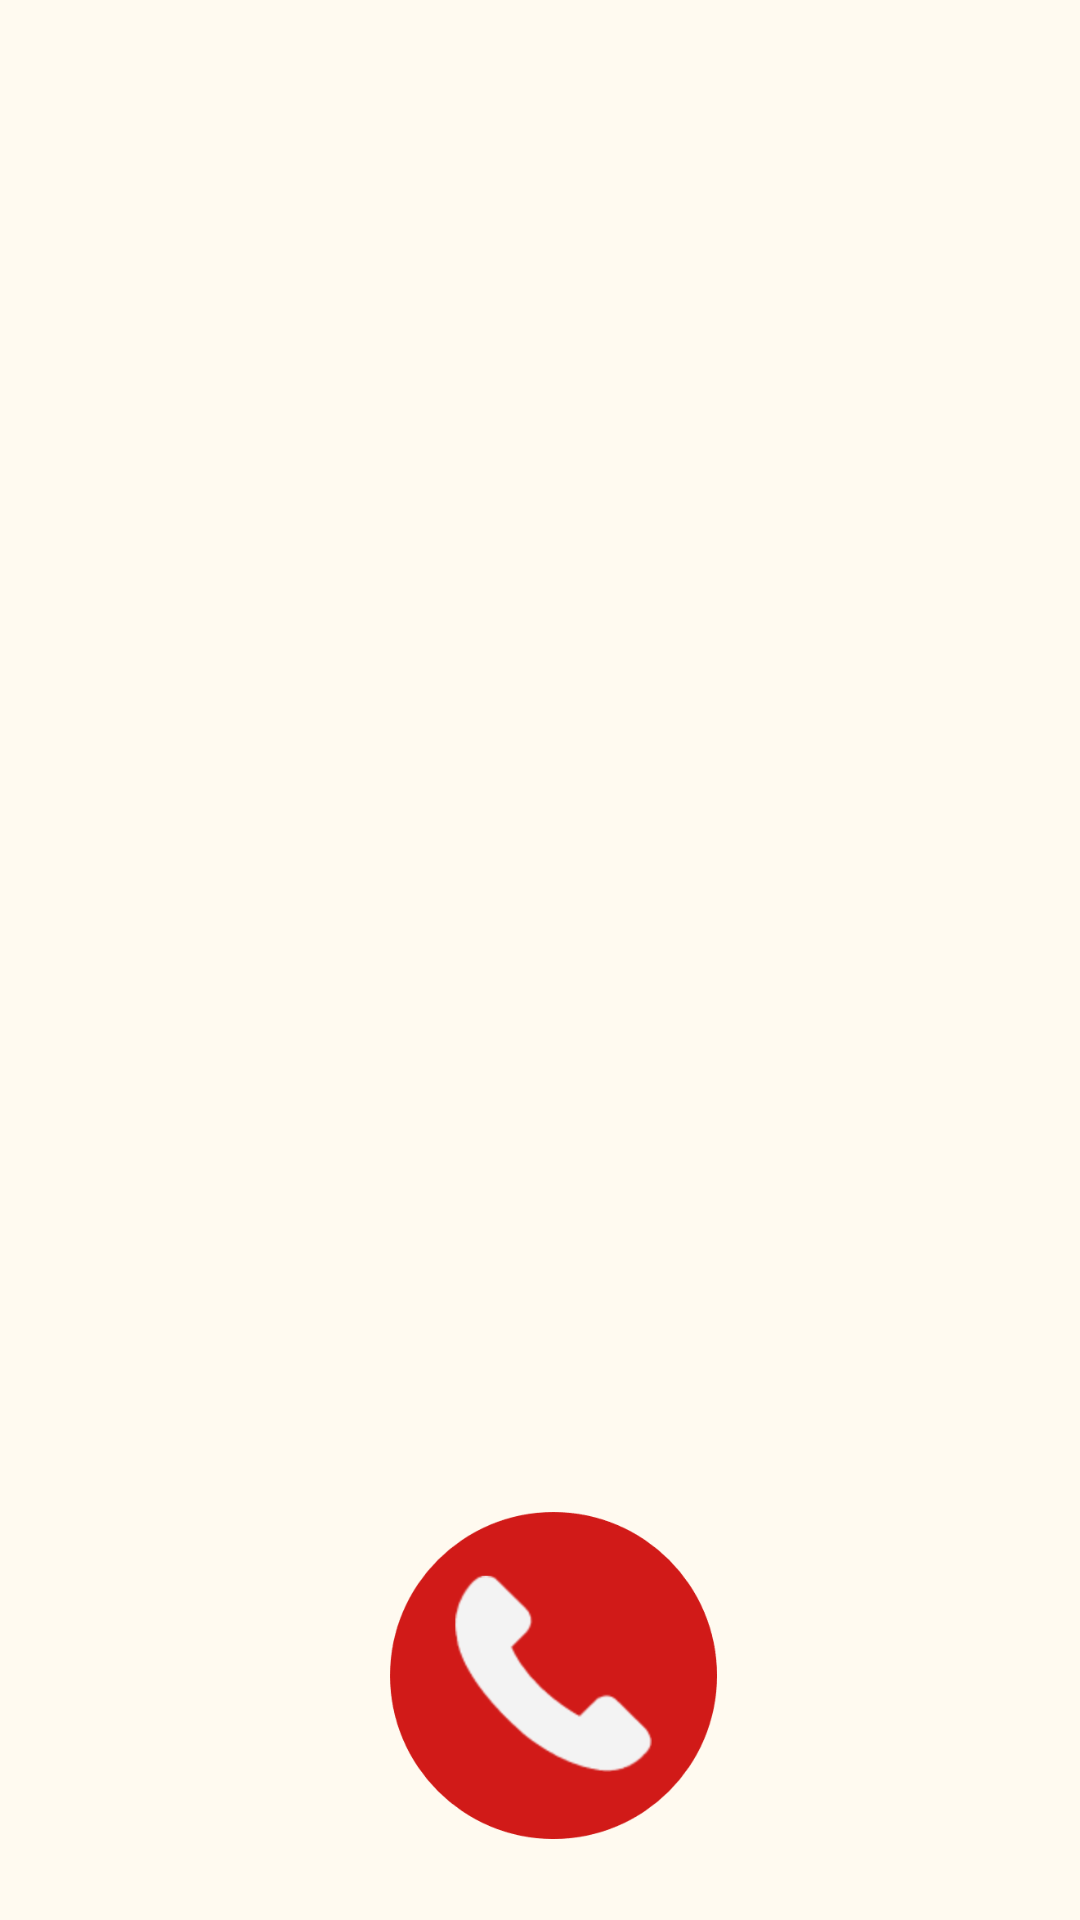

Point at icon controls on the screen. Image size 1080x1920, points as (x=x, y=y).
press to close the call: (x=553, y=1675)
